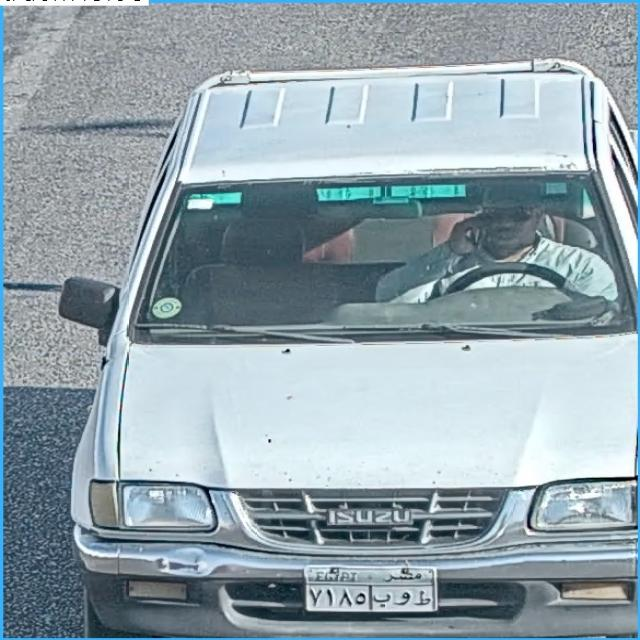windshield: (125, 168, 633, 342)
